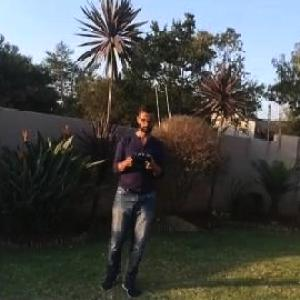follow: (94, 91, 164, 299)
